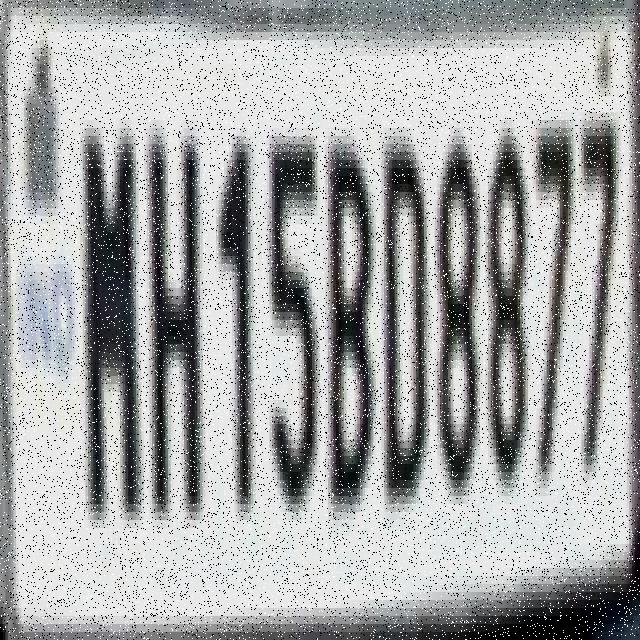licenseplate: (6, 23, 634, 621)
